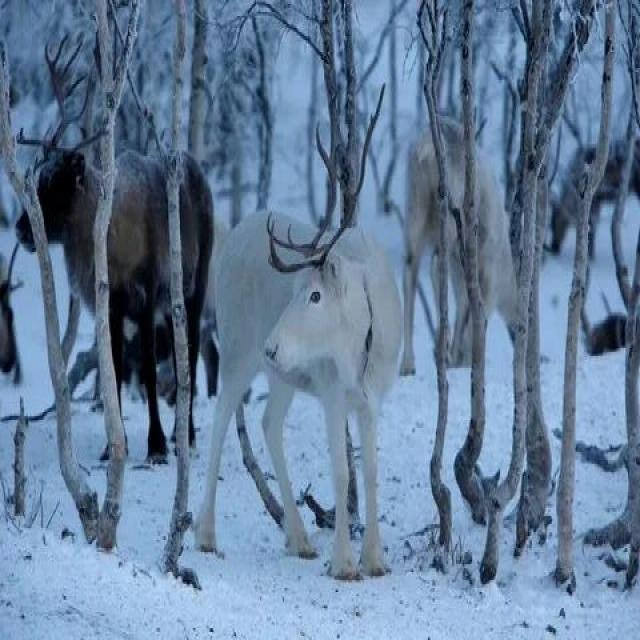deer: (194, 173, 446, 499), (2, 96, 241, 388)
